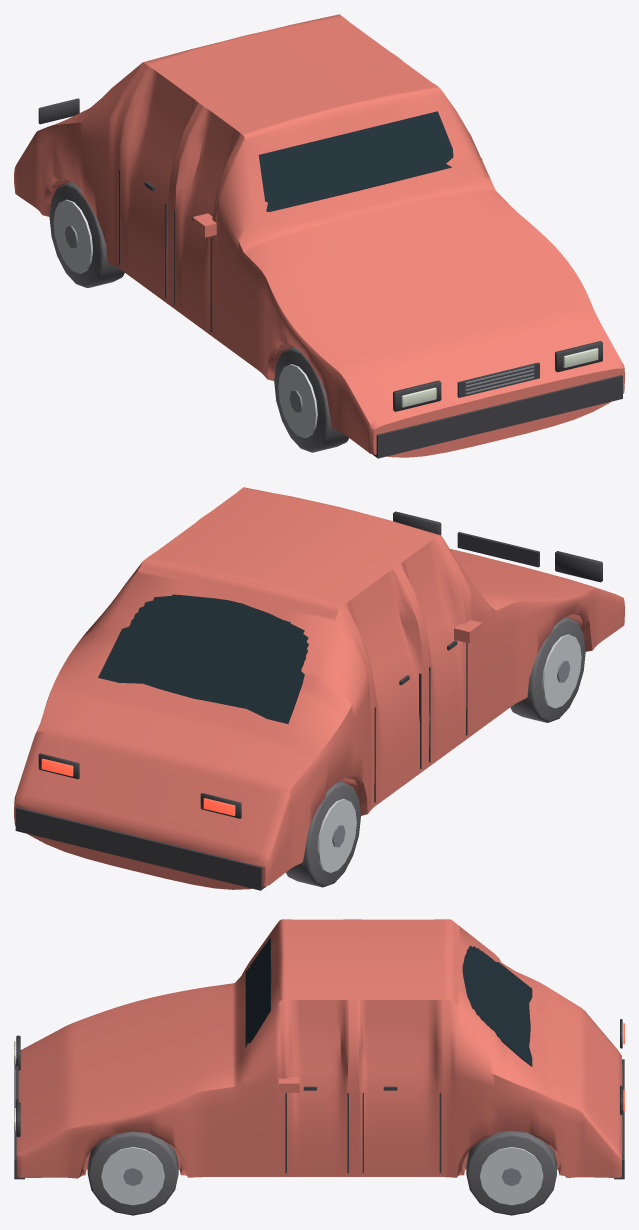
Rendered from Car_Hatch.fbx.
The picture shows the model from 3 angles, top to bottom: view 1: azimuth 30°, elevation 25°; view 2: azimuth 150°, elevation 25°; view 3: azimuth 270°, elevation 25°; orthographic projection. The views are drawn at different scales.
Parts seen in each view (by area): view 1: LOD0; view 2: LOD0; view 3: LOD0.
Part boxes in pixels (x1,y1,x2,y2): LOD0: (14,14,624,458); LOD0: (14,487,624,890); LOD0: (14,919,624,1215).
Size of what is drawn, in the model's own units: 178 by 151 by 404.
